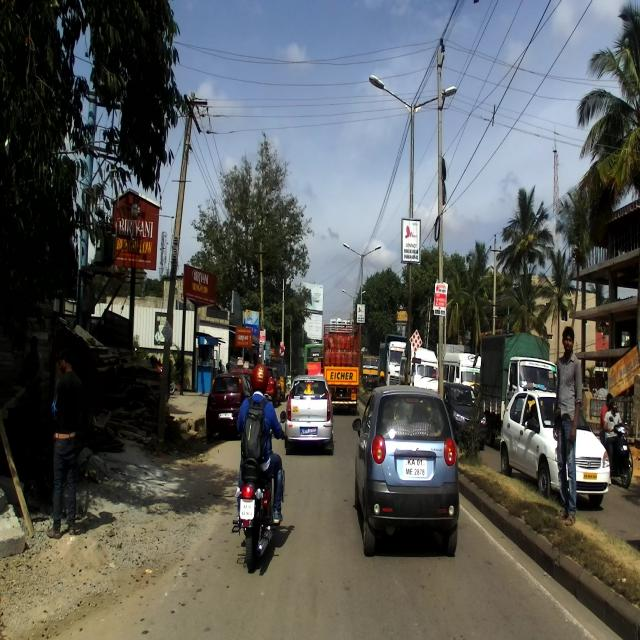car: (353, 383, 460, 556), (499, 384, 611, 506), (282, 372, 332, 456)
motorcycle: (233, 408, 286, 574)
scooter: (600, 415, 631, 488)
truck: (324, 322, 356, 407)
